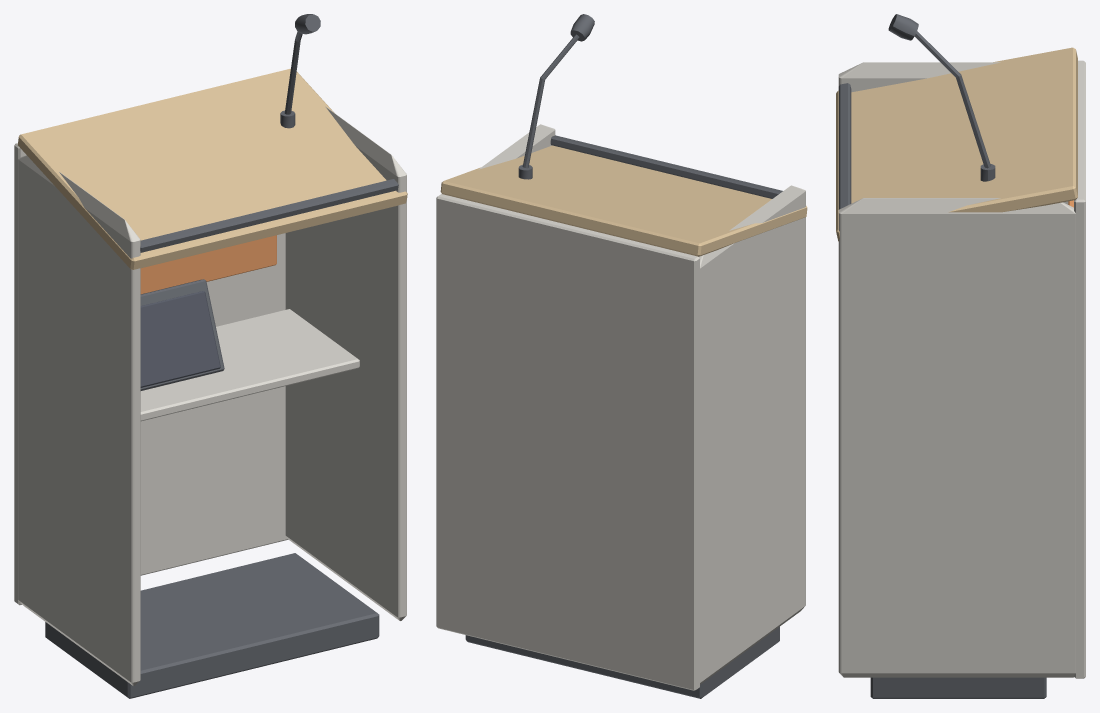
File: university-lecture-hall-and-campus-lecture-theatre-lec-e1d70ee9__34737.glb
3 views of the same model, side by side, from view 1: azimuth 30°, elevation 25°; view 2: azimuth 150°, elevation 25°; view 3: azimuth 270°, elevation 25° (orthographic). The views are drawn at different scales.
Parts seen in each view (by area): view 1: lecture-theatre-lectern; view 2: lecture-theatre-lectern; view 3: lecture-theatre-lectern.
Part boxes in pixels (bbox=[...]): lecture-theatre-lectern: bbox=[14, 14, 407, 698]; lecture-theatre-lectern: bbox=[436, 14, 807, 698]; lecture-theatre-lectern: bbox=[836, 14, 1085, 698].
Bounding box in the file's own units: 0.6812 × 1.48 × 0.5104.
